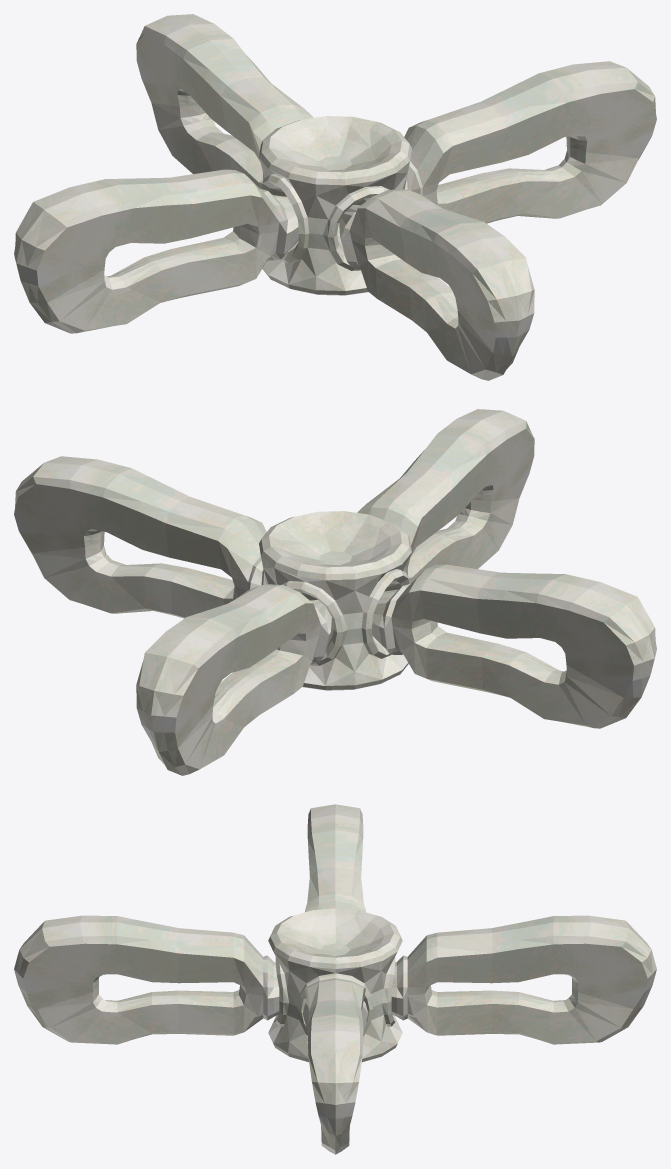
Rendered from spinny.fbx.
3 views of the same model, one above another, from view 1: azimuth 30°, elevation 25°; view 2: azimuth 150°, elevation 25°; view 3: azimuth 270°, elevation 25° (orthographic). The views are drawn at different scales.
Visible parts, largest first — view 1: Spin Part; view 2: Spin Part; view 3: Spin Part.
Boxes of the visible parts, left/top/right/bottom form: Spin Part: left=14, top=14, right=656, bottom=380; Spin Part: left=14, top=409, right=656, bottom=775; Spin Part: left=14, top=804, right=656, bottom=1154.
Size of the model in its own units: 1132 by 236 by 1132.
1 material, 1 textured.
